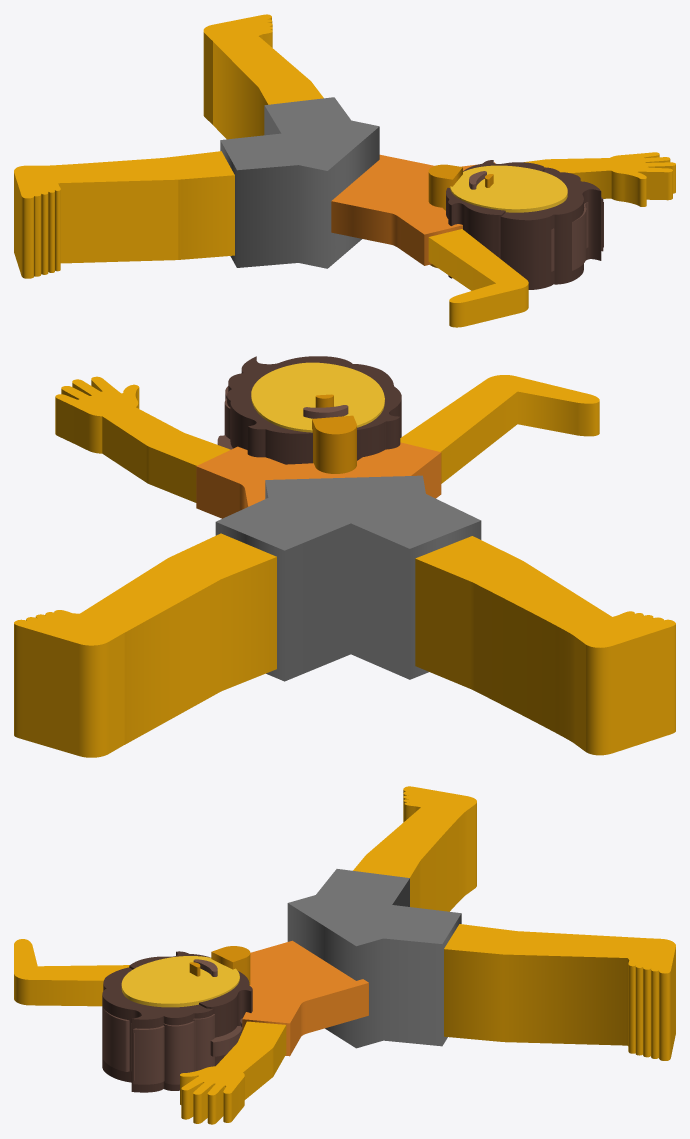
The model's file is emoji_u1f938.glb.
3 views of the same model, one above another, from view 1: azimuth 30°, elevation 25°; view 2: azimuth 150°, elevation 25°; view 3: azimuth 270°, elevation 25° (orthographic). The views are drawn at different scales.
Visible parts, largest first — view 1: emoji_u1f938; view 2: emoji_u1f938; view 3: emoji_u1f938.
Part boxes in pixels (left/top/right/bottom): emoji_u1f938: left=14, top=14, right=675, bottom=327; emoji_u1f938: left=14, top=356, right=675, bottom=757; emoji_u1f938: left=14, top=786, right=675, bottom=1124.
Size of the model in its own units: 0.0331 by 0.0056 by 0.0329.
